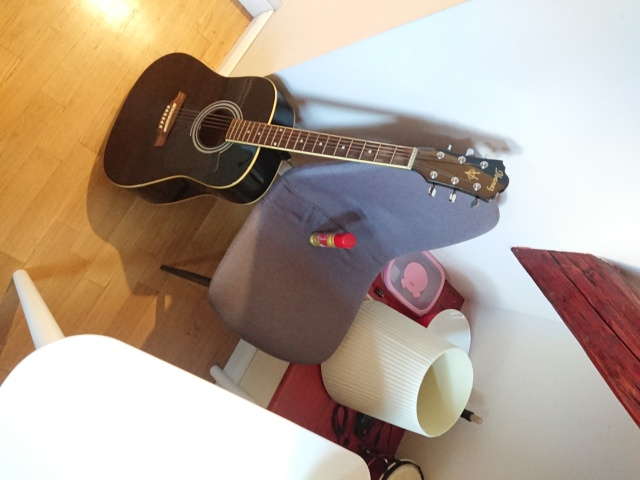Kotanyi Curry Spices Mix 70g: (308, 229, 358, 251)
